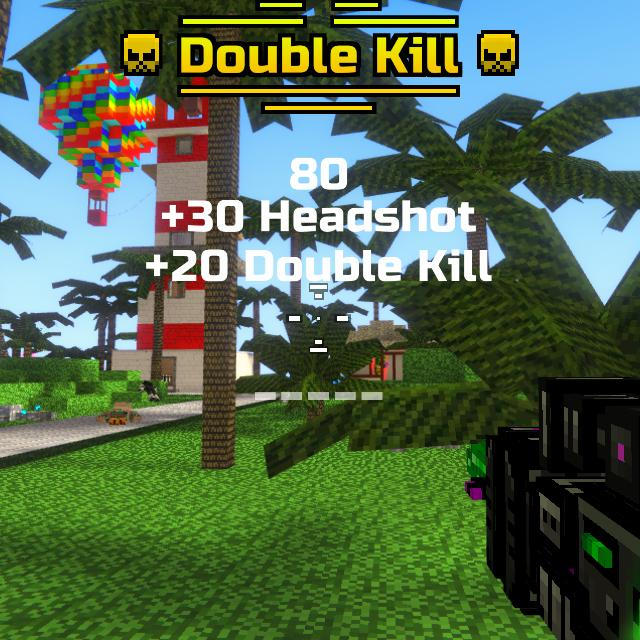Enemy: (372, 356, 388, 376)
